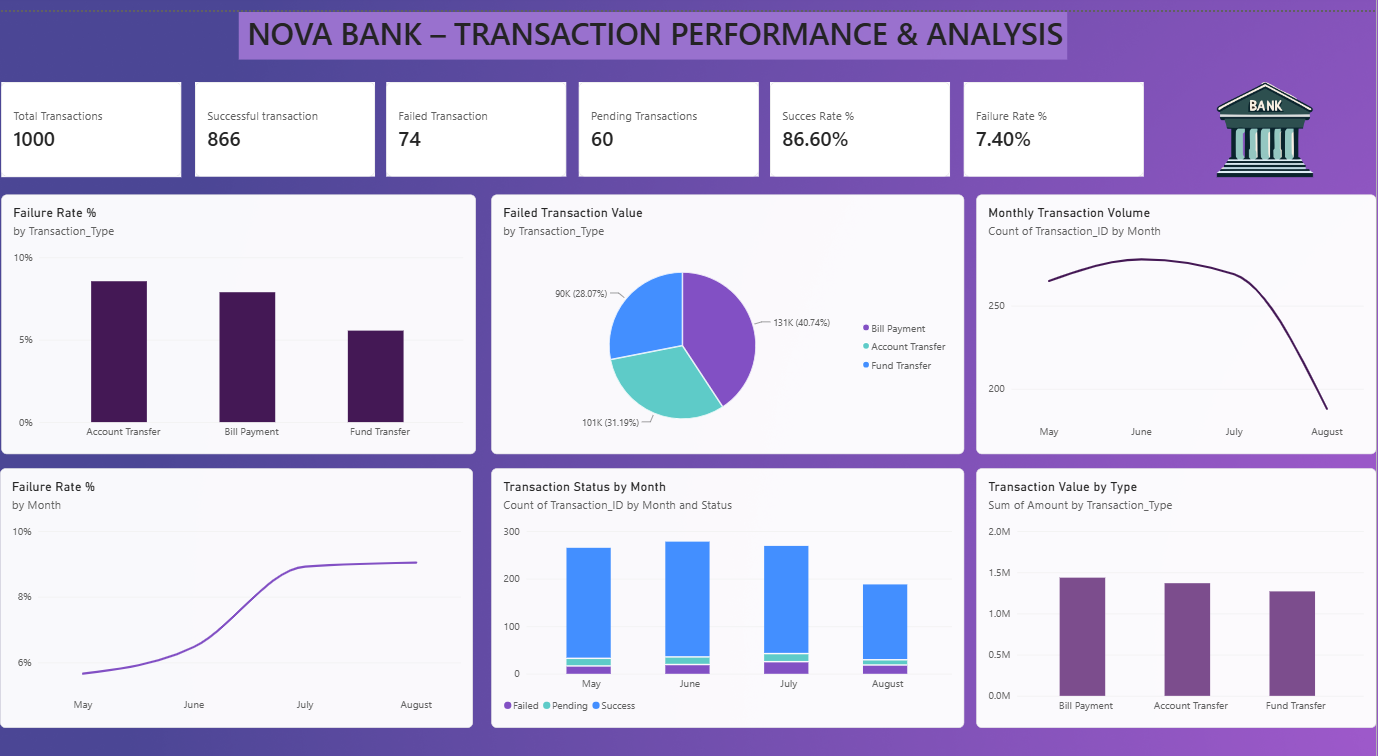

What the dashboard file says about the page in this screenshot:
{"tool":"powerbi","page":{"name":"Page 1","canvas":[1920,1080],"ordinal":0},"visuals":[{"type":"cardVisual","fields":{"Data":["nova_bank_transactions_with_customer_names.Total Transactions"]},"box":[1.7,97.7,251.2,132.6],"z":0},{"type":"cardVisual","fields":{"Data":["nova_bank_transactions_with_customer_names.Successful transaction"]},"box":[272.1,97.7,251,132],"z":1000},{"type":"cardVisual","fields":{"Data":["nova_bank_transactions_with_customer_names.Failed Transaction"]},"box":[539,97.7,251,132],"z":2000},{"type":"cardVisual","fields":{"Data":["nova_bank_transactions_with_customer_names.Pending Transactions"]},"box":[807.6,97.7,251,132],"z":3000},{"type":"cardVisual","fields":{"Data":["nova_bank_transactions_with_customer_names.Failure Rate %"]},"box":[1344.8,97.7,251,132],"z":4000},{"type":"lineChart","fields":{"Category":["nova_bank_transactions_with_customer_names.Transaction_Date.Variation.Date Hierarchy.Month","nova_bank_transactions_with_customer_names.Transaction_Date.Variation.Date Hierarchy.Day"],"Y":["nova_bank_transactions_with_customer_names.Failure Rate %"]},"box":[0,636.6,660,362],"z":5000},{"type":"clusteredColumnChart","fields":{"Category":["nova_bank_transactions_with_customer_names.Transaction_Type"],"Y":["nova_bank_transactions_with_customer_names.Failure Rate %"]},"box":[1.7,254.7,662,362.8],"z":6000},{"type":"pieChart","fields":{"Category":["nova_bank_transactions_with_customer_names.Transaction_Type"],"Y":["nova_bank_transactions_with_customer_names.Failed Transaction Value"]},"box":[685.5,254.7,660,362],"z":7000},{"type":"cardVisual","fields":{"Data":["nova_bank_transactions_with_customer_names.Succes Rate %"]},"box":[1074.4,97.7,251,132],"z":8000},{"type":"columnChart","title":"Transaction Status by Month","fields":{"Category":["nova_bank_transactions_with_customer_names.Transaction_Date.Variation.Date Hierarchy.Month"],"Series":["nova_bank_transactions_with_customer_names.Status"],"Y":["CountNonNull(nova_bank_transactions_with_customer_names.Transaction_ID)"]},"box":[685.5,636.6,660,362],"z":9000},{"type":"lineChart","title":"Monthly Transaction Volume","fields":{"Category":["nova_bank_transactions_with_customer_names.Transaction_Date.Variation.Date Hierarchy.Month"],"Y":["CountNonNull(nova_bank_transactions_with_customer_names.Transaction_ID)"]},"box":[1362.2,254.7,558.1,362.8],"z":10000},{"type":"clusteredColumnChart","title":"Transaction Value by Type","fields":{"Category":["nova_bank_transactions_with_customer_names.Transaction_Type"],"Y":["Sum(nova_bank_transactions_with_customer_names.Amount)"]},"box":[1362.2,636.6,558.1,362.8],"z":10001},{"type":"textbox","box":[333.1,0,1156.4,66.3],"z":10003},{"type":"image","box":[1609.9,97.7,310.5,132.6],"z":10004}]}

Visuals, with their boxes in screenshot pixels (x1, y1, x2, y2), scaled from the page's 1920x1080 canvas onto the 1378x756 screenshot:
cardVisual - nova_bank_transactions_with_customer_names.Total Transactions: 1/68/182/161
cardVisual - nova_bank_transactions_with_customer_names.Successful transaction: 195/68/375/161
cardVisual - nova_bank_transactions_with_customer_names.Failed Transaction: 387/68/567/161
cardVisual - nova_bank_transactions_with_customer_names.Pending Transactions: 580/68/760/161
cardVisual - nova_bank_transactions_with_customer_names.Failure Rate %: 965/68/1145/161
lineChart - nova_bank_transactions_with_customer_names.Transaction_Date.Variation.Date Hierarchy.Month x nova_bank_transactions_with_customer_names.Transaction_Date.Variation.Date Hierarchy.Day: 0/446/474/699
clusteredColumnChart - nova_bank_transactions_with_customer_names.Transaction_Type x nova_bank_transactions_with_customer_names.Failure Rate %: 1/178/476/432
pieChart - nova_bank_transactions_with_customer_names.Transaction_Type x nova_bank_transactions_with_customer_names.Failed Transaction Value: 492/178/966/432
cardVisual - nova_bank_transactions_with_customer_names.Succes Rate %: 771/68/951/161
"Transaction Status by Month" columnChart: 492/446/966/699
"Monthly Transaction Volume" lineChart: 978/178/1377/432
"Transaction Value by Type" clusteredColumnChart: 978/446/1377/700
textbox: 239/0/1069/46
image: 1155/68/1377/161
